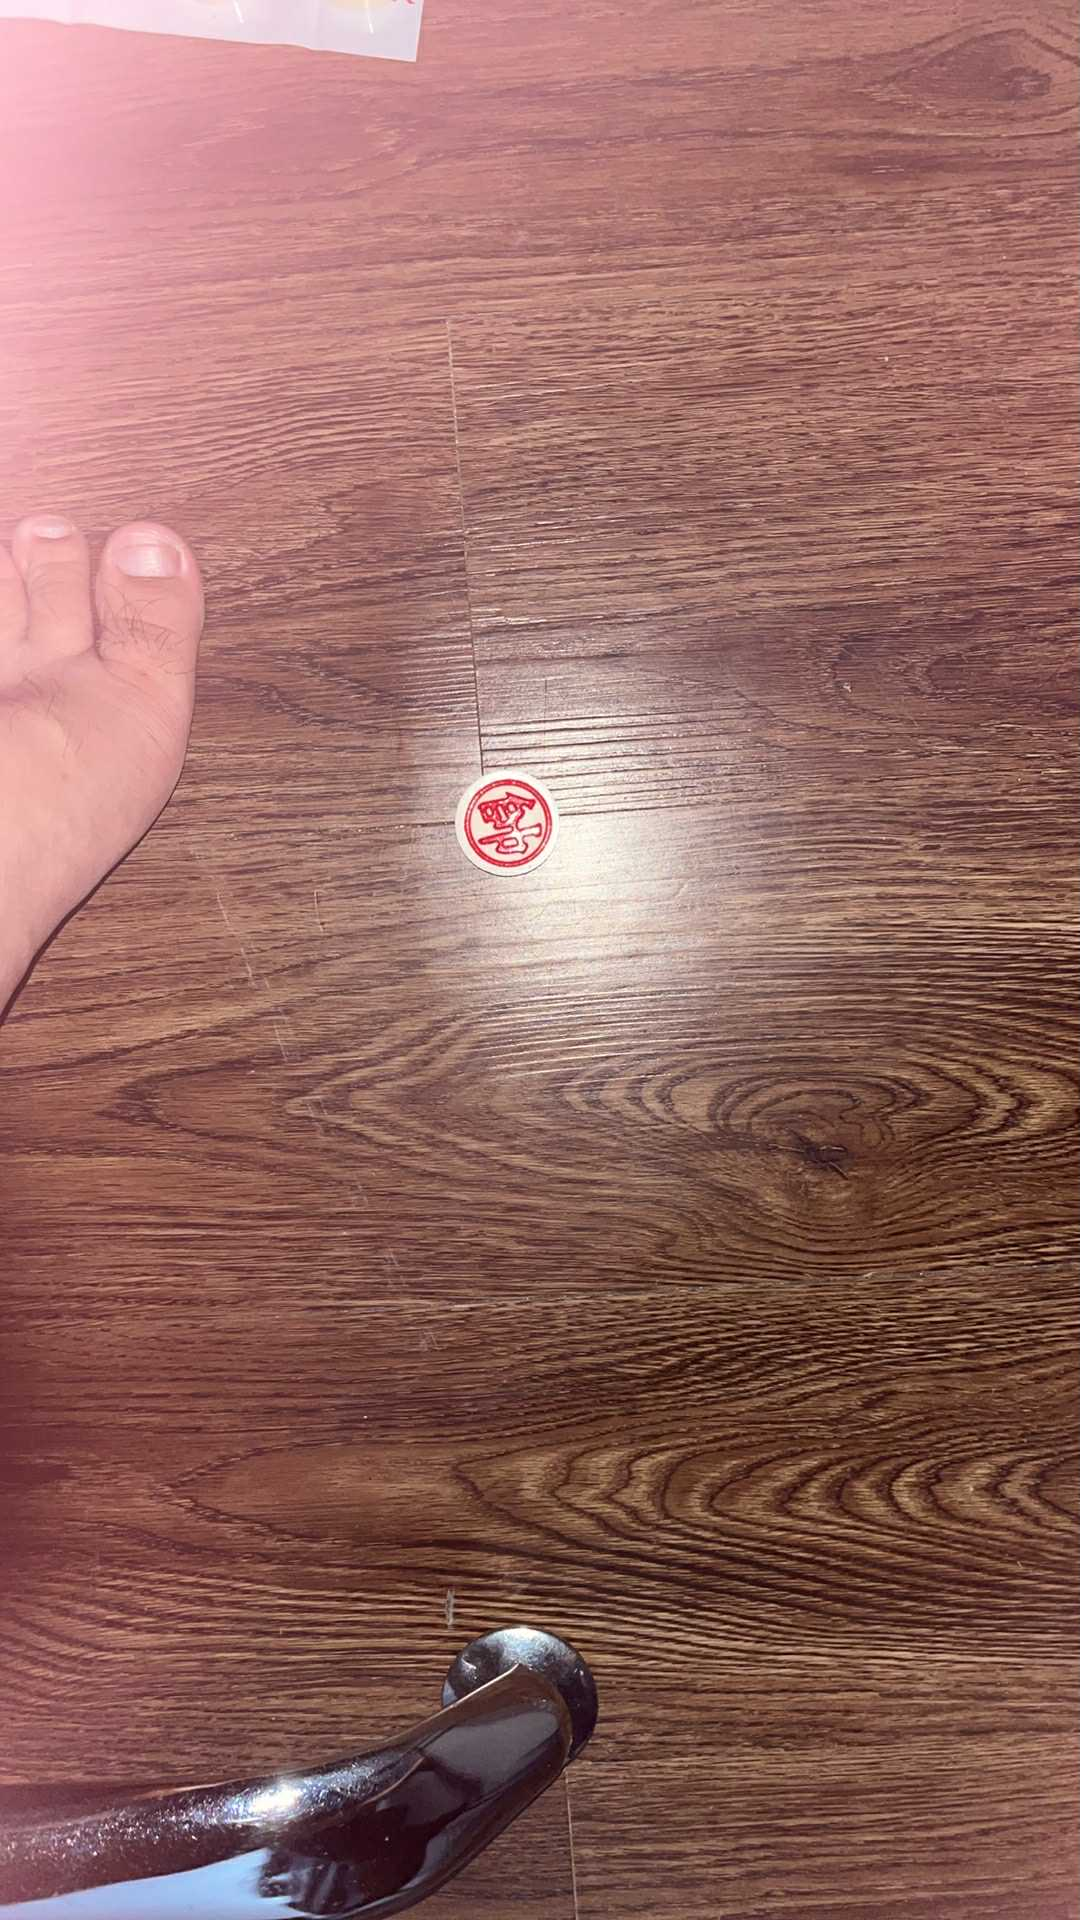red-general: (454, 766, 558, 880)
